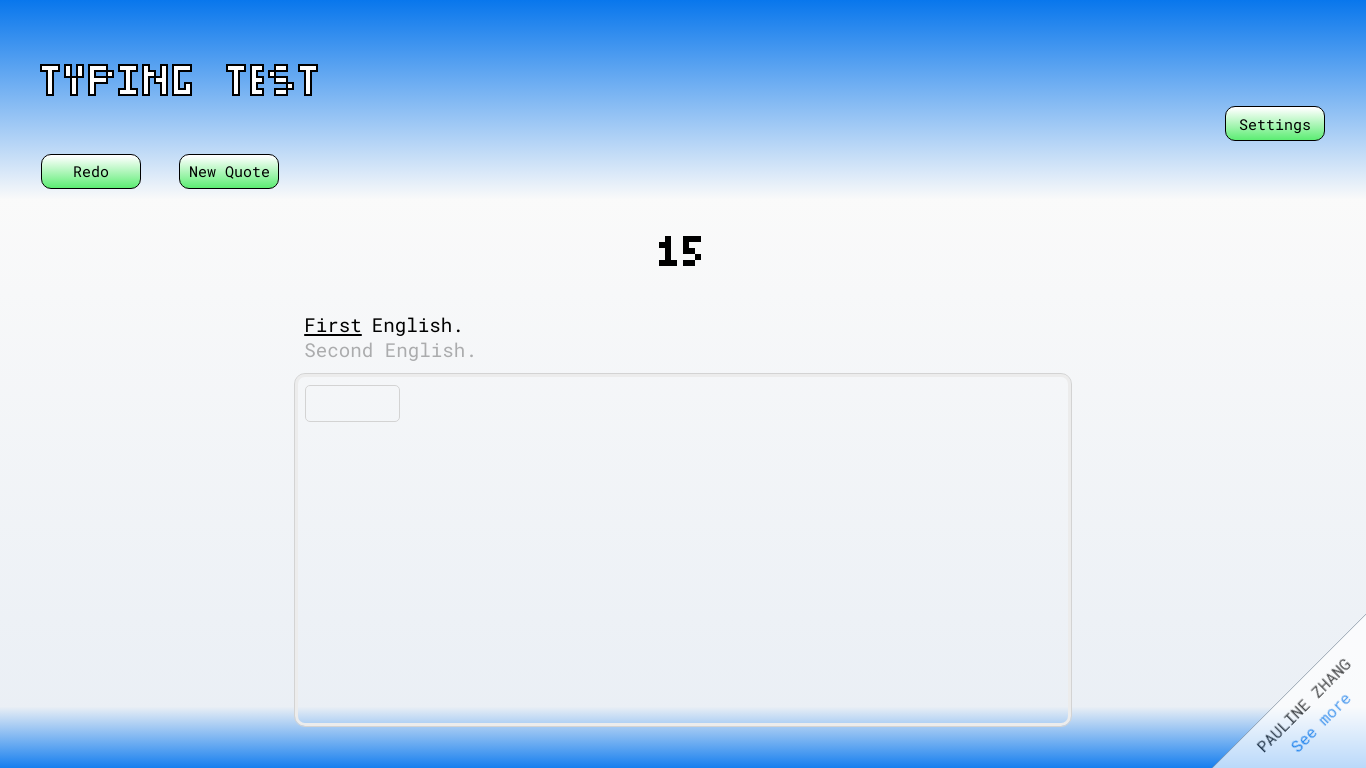
it: Main and Settings › closes Settings when there is a click outside of Settings
Click the button with test id "settings": point(1275, 124) [1225, 106, 1325, 141]
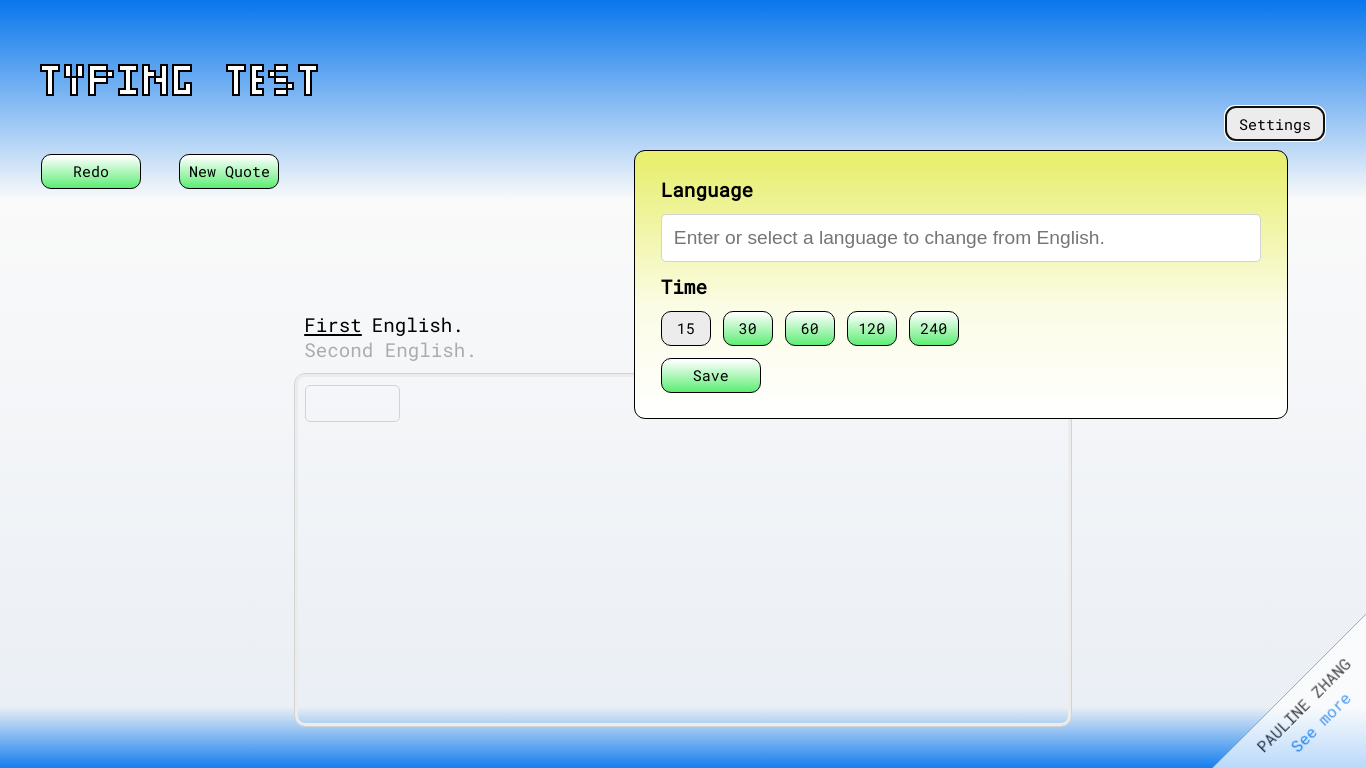
Click the element with test id "app": point(683, 384) [0, 0, 1365, 767]
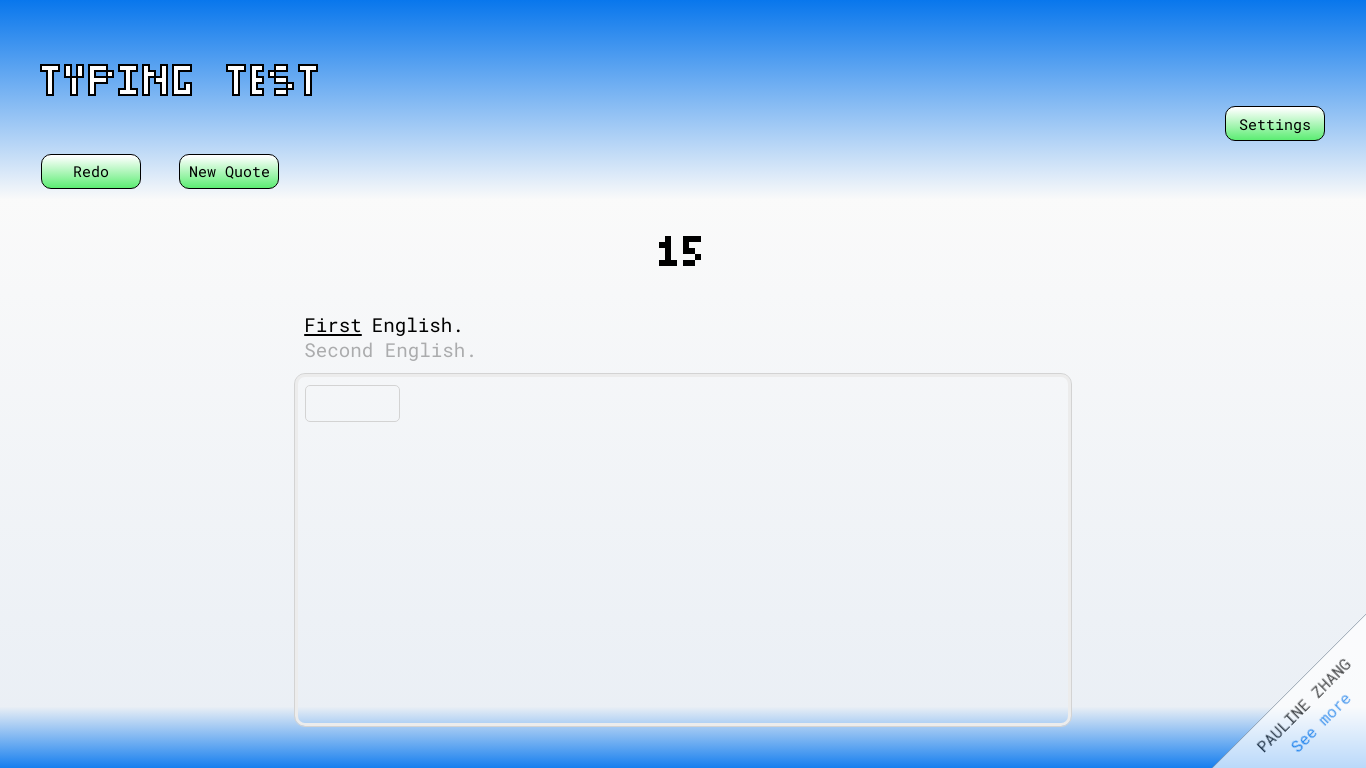
Check: the button "Save" is gone
